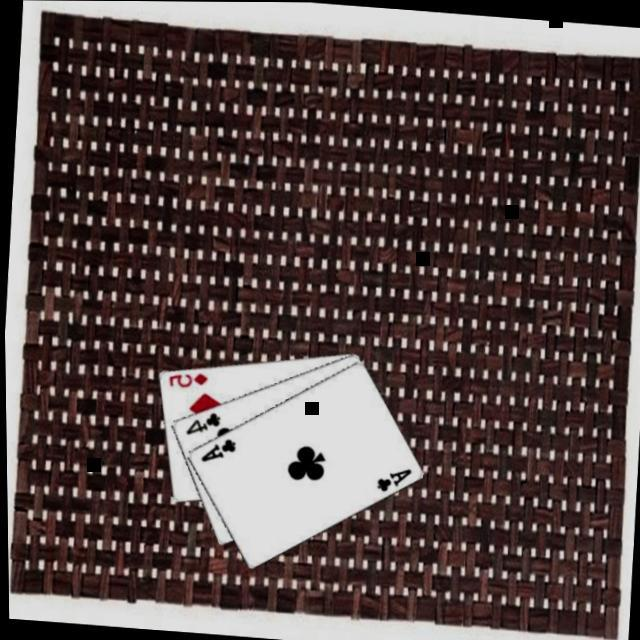4C: (179, 407, 219, 440)
5D: (162, 368, 207, 391)
AC: (368, 463, 409, 496), (194, 433, 234, 466)
